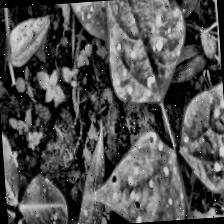Bean Rust: (79, 130, 180, 224), (105, 0, 191, 107), (173, 56, 224, 193)
